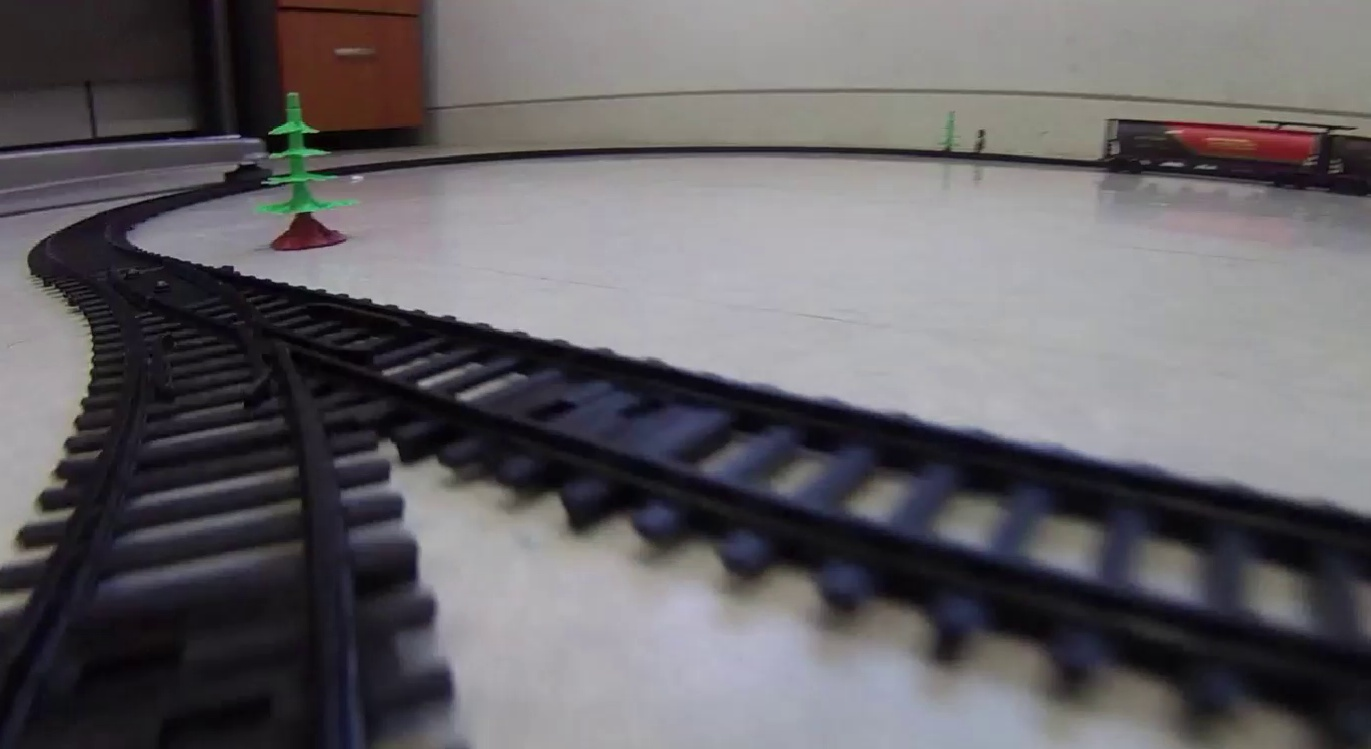tree: (255, 93, 354, 248)
